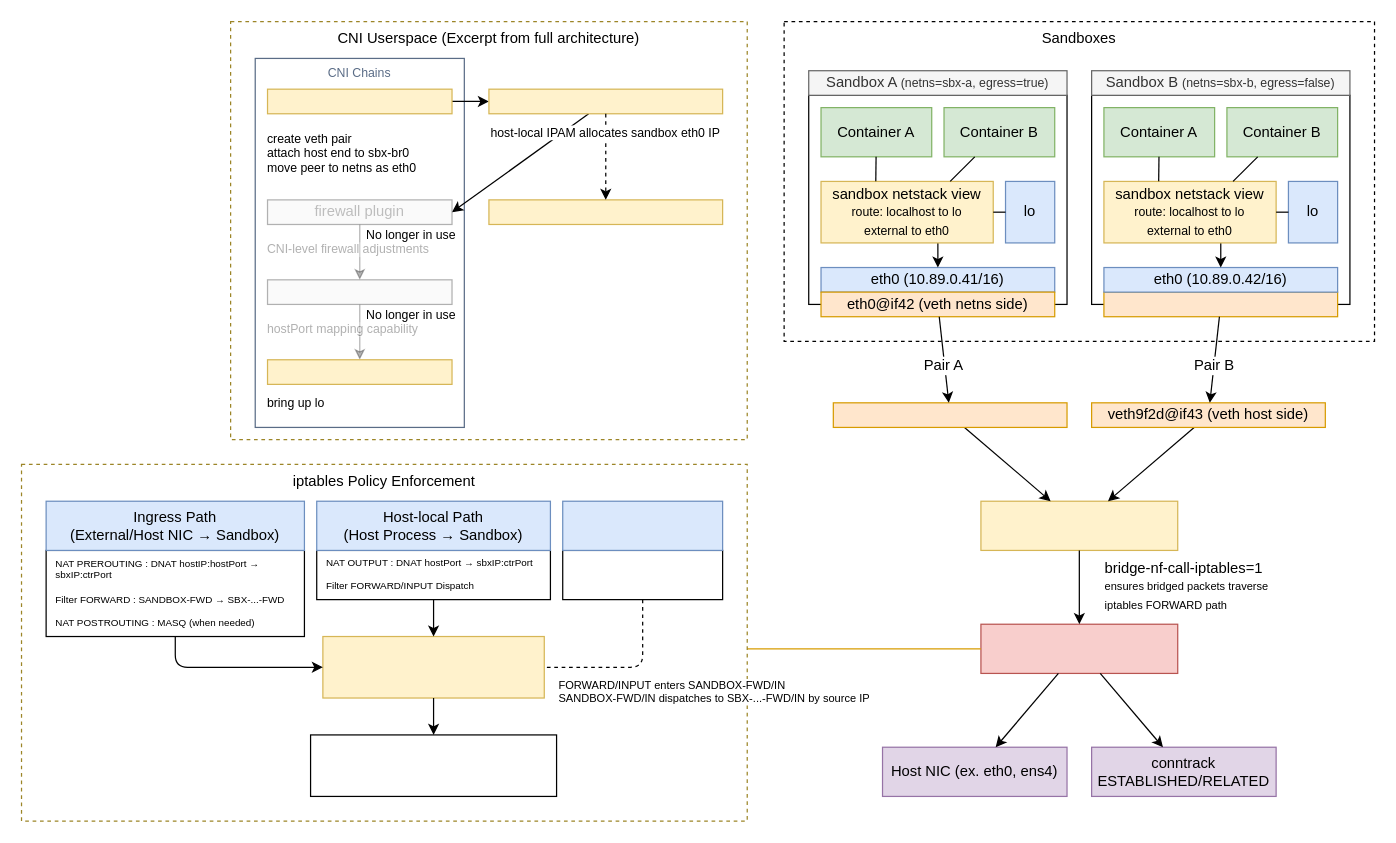
The diagram is 1396 pixels wide and 843 high, and some of its shapes have lost their labels. Each missing label, with the centre of its shape:
"bridge plugin" belongs at point 359,101.
"CNI Cache (/var/lib/cni/...)" belongs at point 605,211.
"Egress Behavior A(egress=true) : Outbound Allow B(egress=false) : Outbound Deny" belongs at point 433,765.
"eth0@if44 (veth netns side)" belongs at point 1220,304.
"FORWARD → SANDBOX-FWD INPUT → SANDBOX-IN" belongs at point 642,574.
"Global Hooks" belongs at point 642,525.
"host-local IPAM (10.89.0.0/16)" belongs at point 605,101.
"loopback plugin" belongs at point 359,371.
"Netfilter Hook Path" belongs at point 1079,648.
"Per-sandbox Chains SBX-...-FWD/IN (dispatch by sandbox source IP)" belongs at point 433,666.
"portmap plugin" belongs at point 359,291.
"sbx-br0 Bridge (GW: 10.89.0.1)" belongs at point 1079,525.
"veth7a3c@if41 (veth host side)" belongs at point 949,414.
